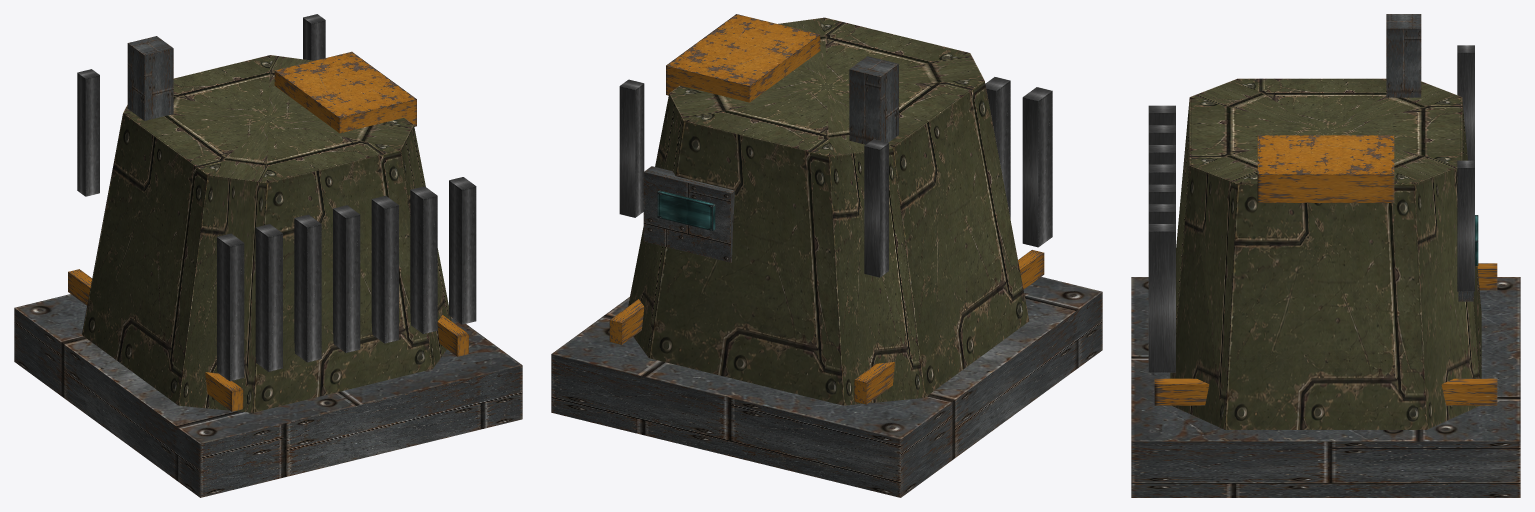
The model's file is generator.obj.
3 renders of one model, left to right at view 1: azimuth 30°, elevation 25°; view 2: azimuth 150°, elevation 25°; view 3: azimuth 270°, elevation 25°, orthographic. The views are drawn at different scales.
Parts seen in each view (by area): view 1: generator; view 2: generator; view 3: generator.
Part boxes in pixels (x1=…): generator: x1=14, y1=14, x2=522, y2=497; generator: x1=551, y1=14, x2=1102, y2=497; generator: x1=1131, y1=14, x2=1520, y2=497.
Bounding box in the file's own units: 1 × 1 × 1.
Materials: 1 (1 with a texture image).
